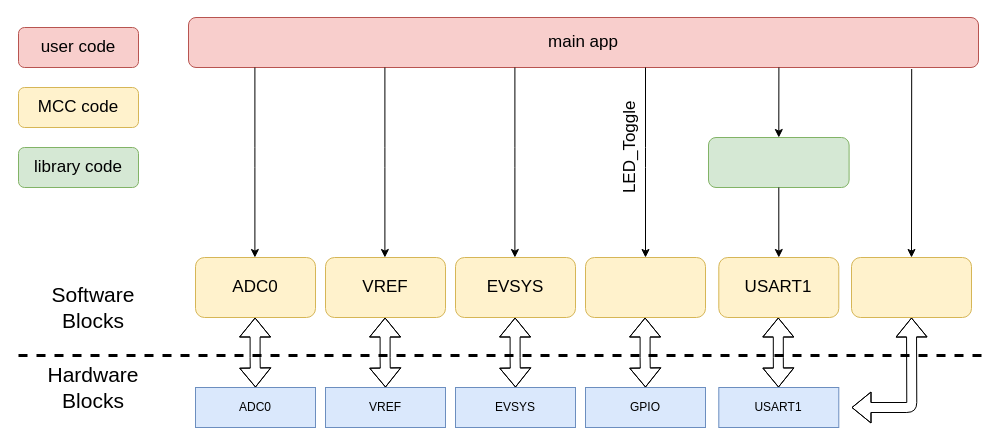
This 1008x445 diagram has some shape labels left out. Here are the shapes that lost their labels. From the top down, the centre of each, then its label:
At point 778,162: "printf".
At point 645,287: "pin manager".
At point 911,287: "System Init".
